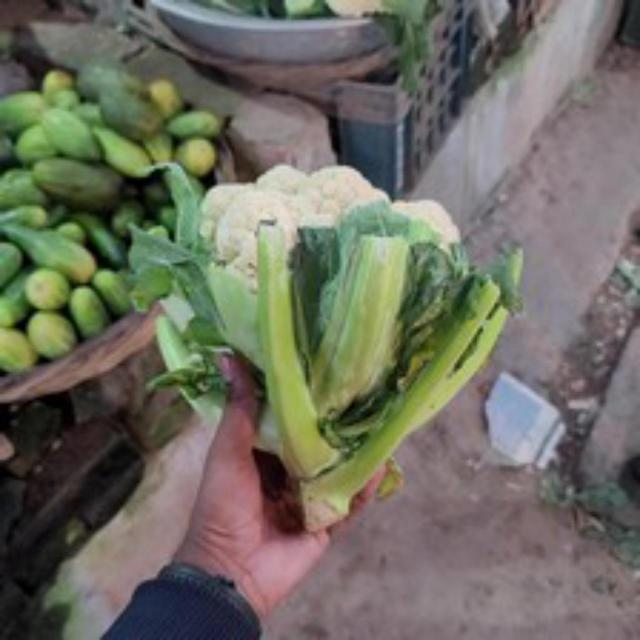cauliflower: (148, 150, 532, 537)
